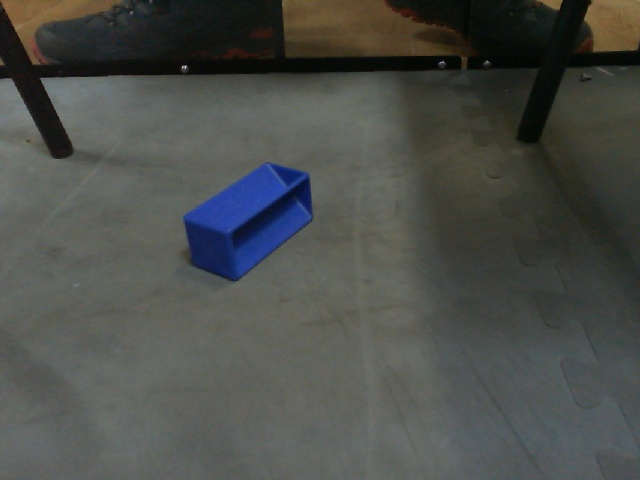BlueSample: (179, 160, 317, 286)
